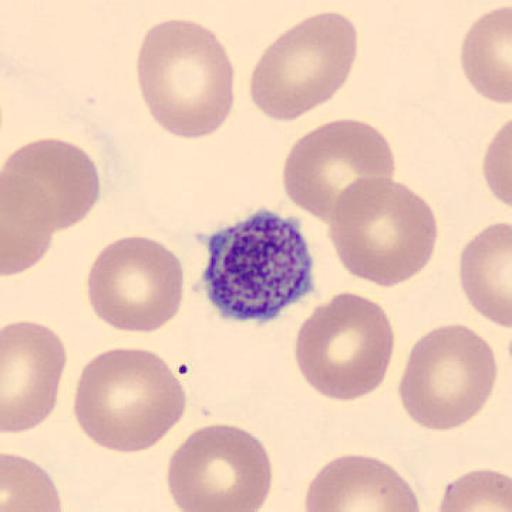Platelet: (198, 206, 320, 324)
RBC: (280, 116, 397, 228), (326, 175, 440, 289), (72, 346, 188, 455), (249, 10, 360, 123), (135, 16, 236, 140), (292, 289, 396, 402), (398, 322, 498, 433), (85, 234, 185, 334), (165, 421, 273, 512), (2, 136, 100, 232), (2, 319, 68, 434), (303, 453, 422, 512), (458, 219, 512, 331), (1, 172, 57, 277), (459, 3, 512, 104), (1, 451, 64, 512), (436, 467, 512, 512), (482, 116, 512, 210)
